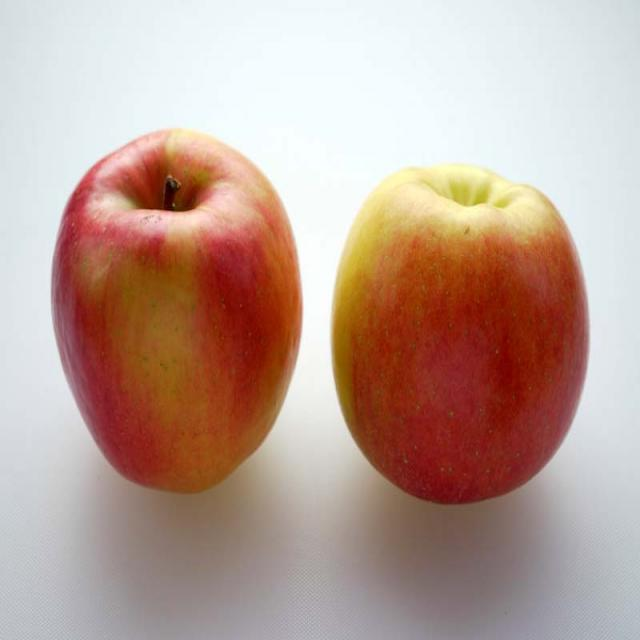Apple: (42, 127, 306, 495), (331, 160, 594, 509)
